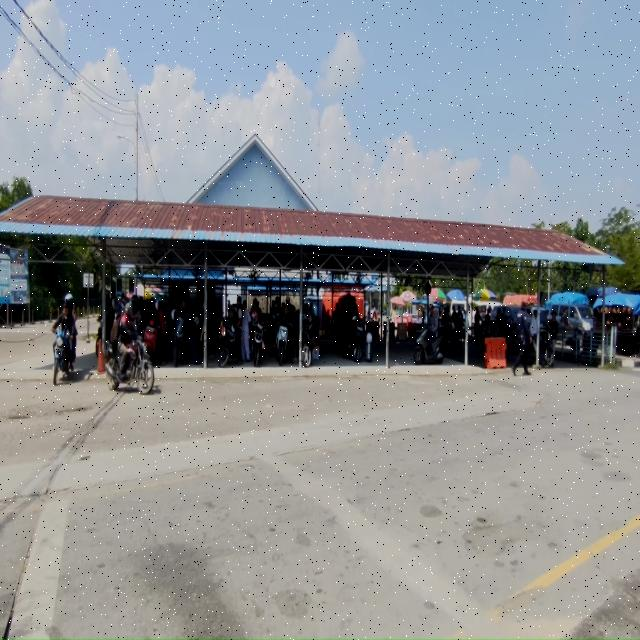Golongan II: (105, 336, 155, 394), (413, 324, 446, 365), (173, 316, 199, 368), (53, 329, 72, 386), (344, 315, 366, 363), (218, 317, 239, 367), (528, 328, 553, 368), (302, 318, 318, 368), (251, 321, 268, 366), (173, 317, 187, 367), (143, 320, 158, 362), (276, 324, 289, 366), (96, 315, 102, 359)
